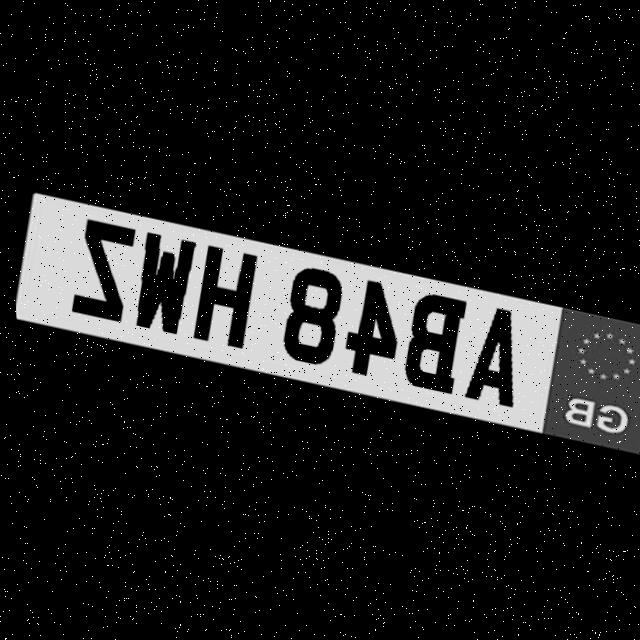license-plates: (15, 189, 640, 453)
